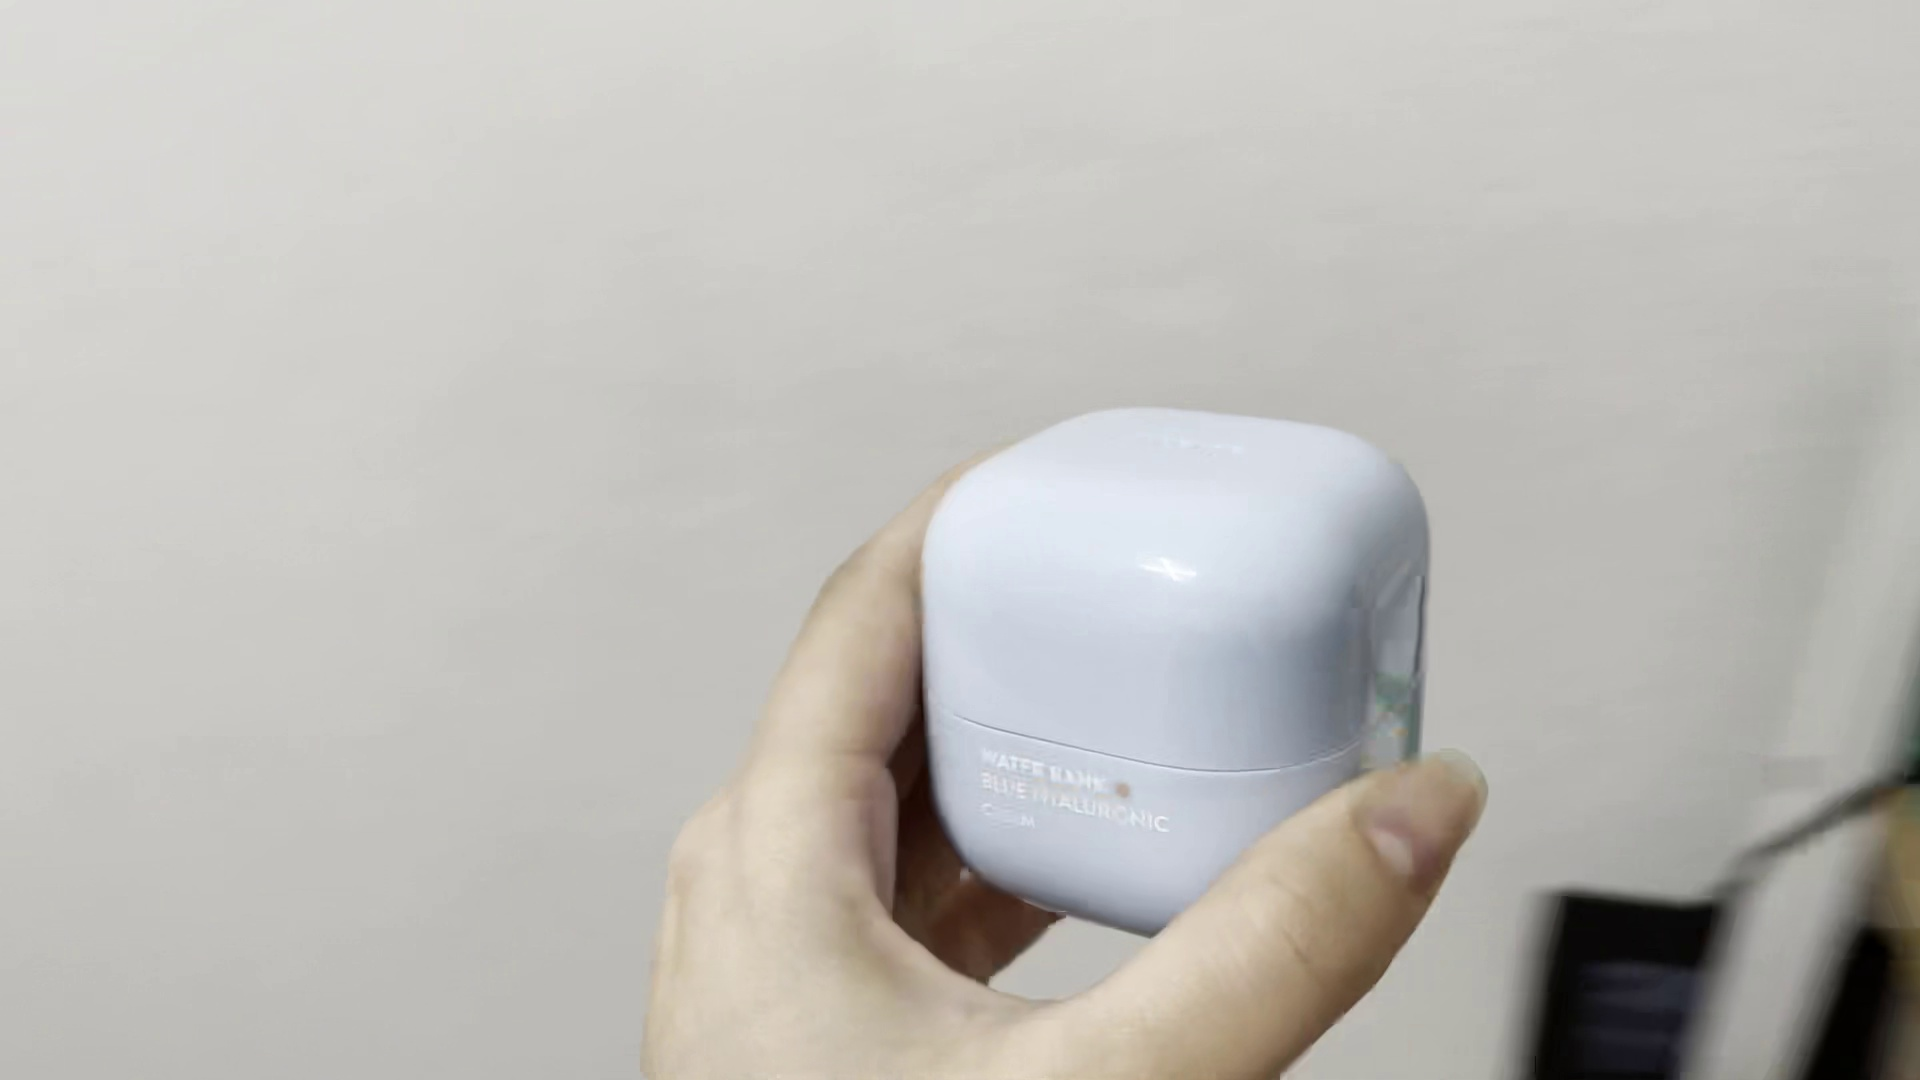cream: (922, 404, 1433, 942)
